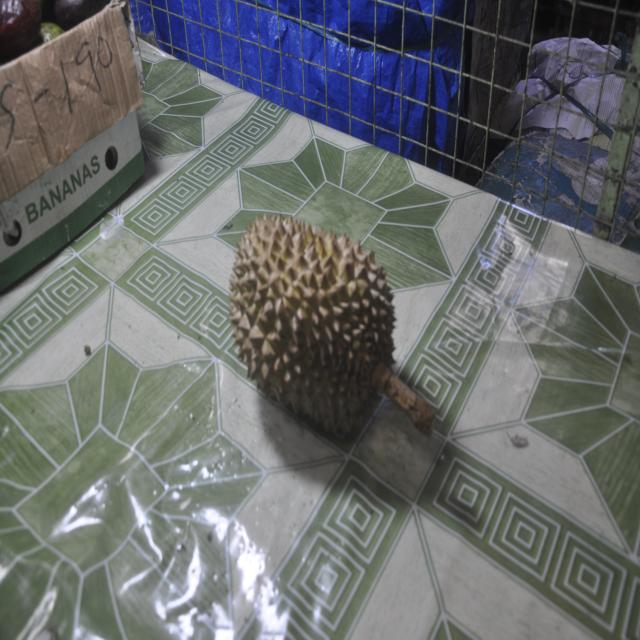mature: (230, 216, 435, 436)
